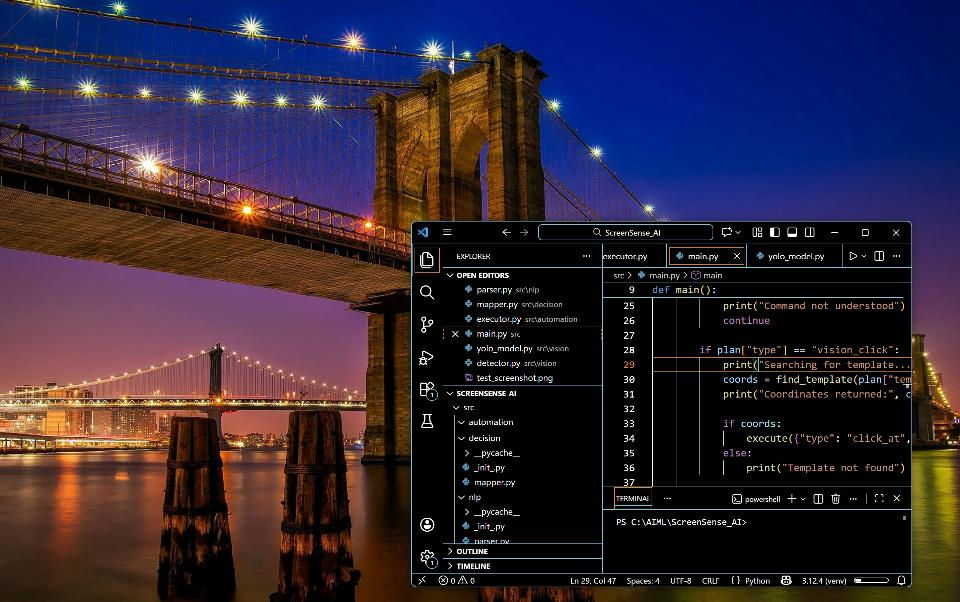close_button: (886, 224, 908, 243)
maximize_button: (853, 223, 878, 242)
minimize_button: (824, 222, 847, 245)
